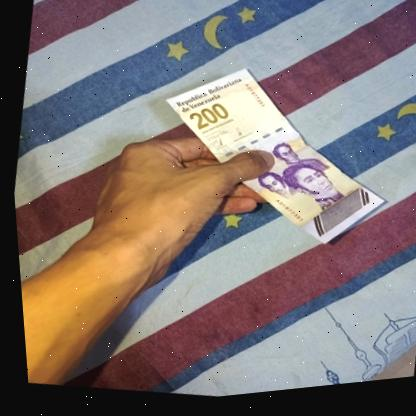two_hundred-front-vef: (136, 46, 405, 276)
